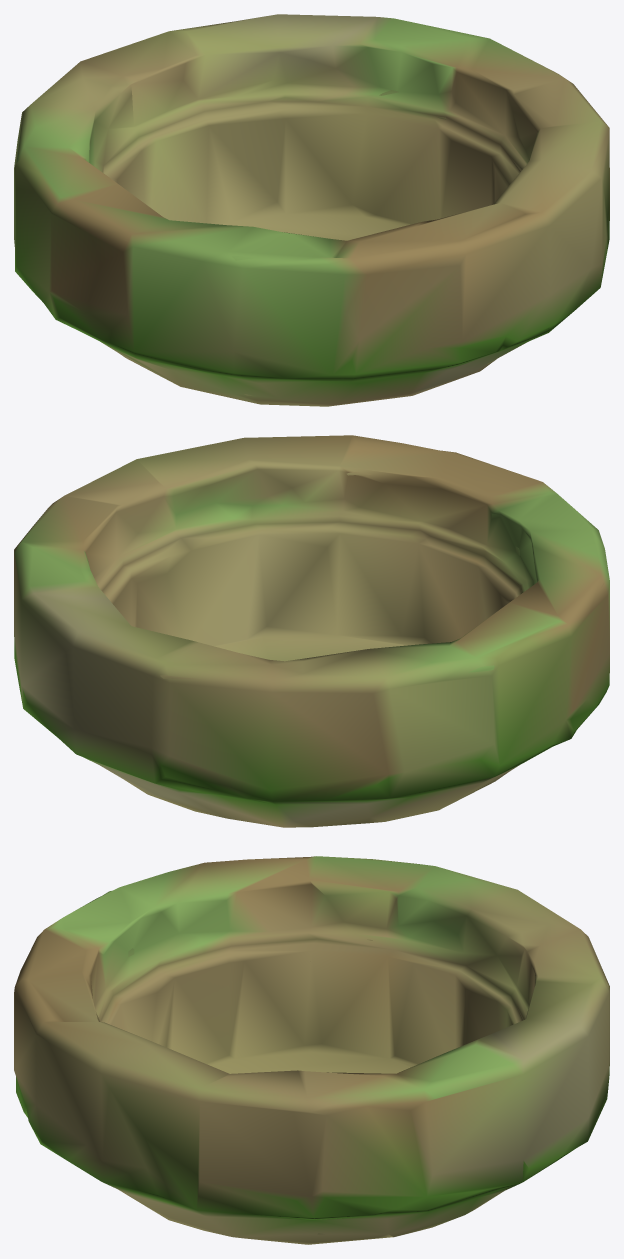
Rendered from gen3d-oasis-well-lod1.glb.
The picture shows the model from 3 angles, top to bottom: view 1: azimuth 30°, elevation 25°; view 2: azimuth 150°, elevation 25°; view 3: azimuth 270°, elevation 25°; orthographic projection.
Parts seen in each view (by area): view 1: part_0; view 2: part_0; view 3: part_0.
Boxes of the visible parts, left/top/right/bottom form: part_0: left=14, top=14, right=609, bottom=406; part_0: left=14, top=435, right=609, bottom=827; part_0: left=14, top=856, right=609, bottom=1244.
Bounding box in the file's own units: 2.93 × 0.9999 × 2.92.
